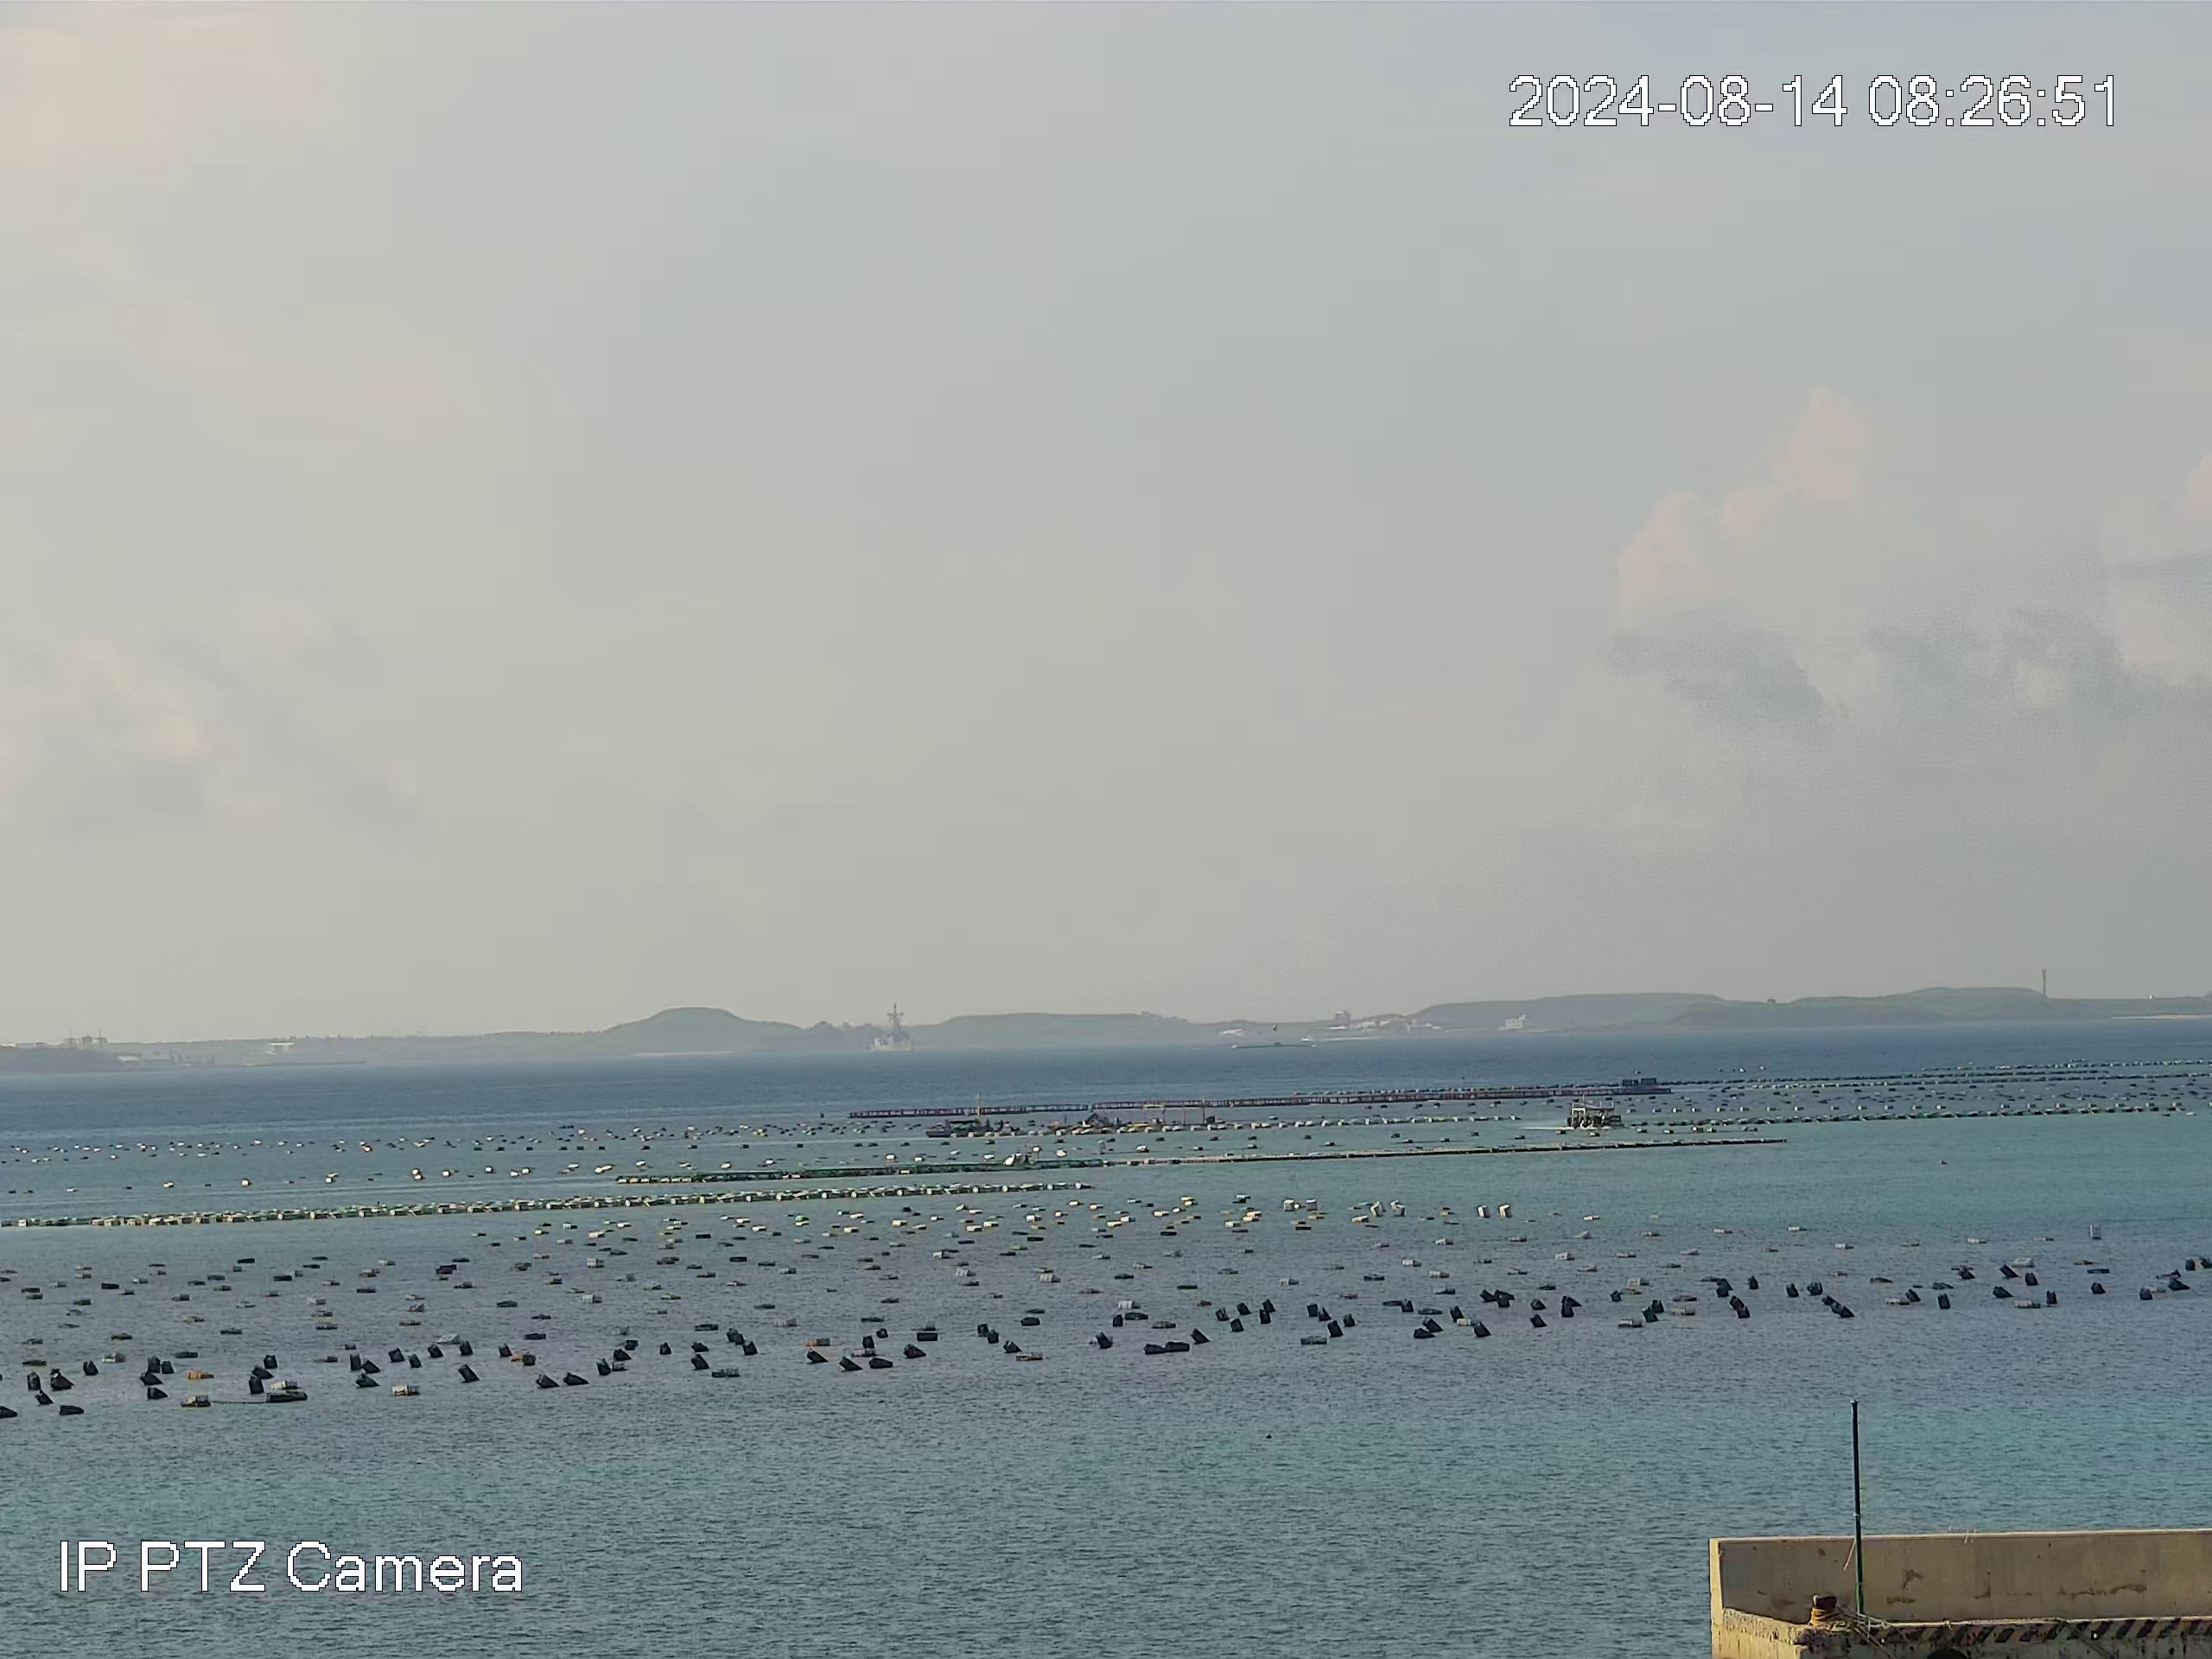boat: (1564, 1100, 1625, 1133), (923, 1117, 996, 1140)
